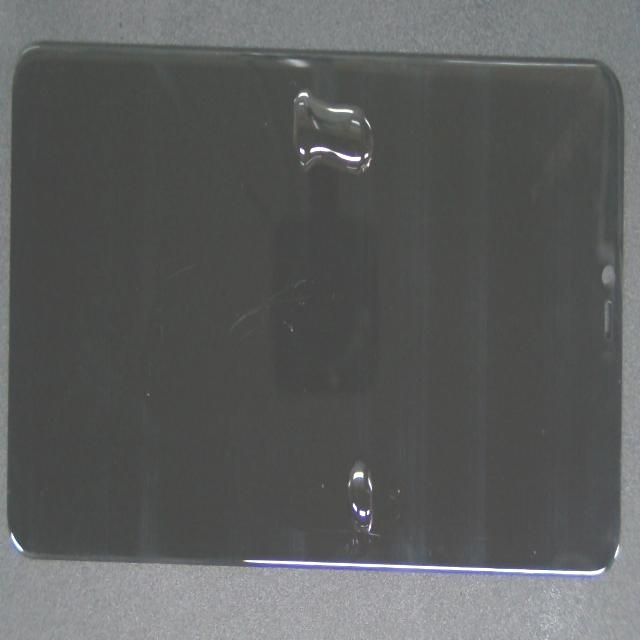oil: (204, 269, 561, 640), (162, 88, 541, 252)
